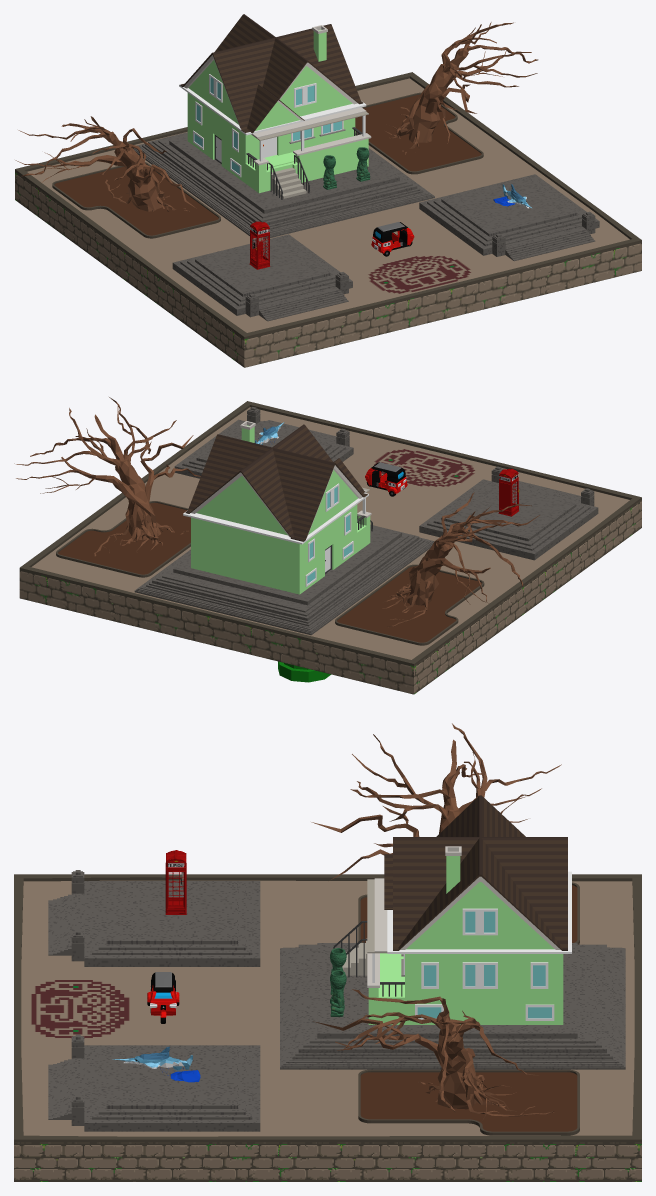
3 views of the same model, one above another, from view 1: azimuth 30°, elevation 25°; view 2: azimuth 150°, elevation 25°; view 3: azimuth 270°, elevation 25° (orthographic). The views are drawn at different scales.
Visible parts, largest first — view 1: Cube.011, Cube.274, VEHICLES_TUC_TUC, OBJRANDOM_PHONEBOOTH; view 2: Cube.011, Cube.274, VEHICLES_TUC_TUC, OBJRANDOM_PHONEBOOTH, UNDERGROUND_PIPES; view 3: Cube.011, Cube.274, OBJRANDOM_PHONEBOOTH, VEHICLES_TUC_TUC, ANIMAL_PEZ_ESPADA.
Part boxes in pixels (box(x1,y1,x2,y2)): Cube.011: box(15, 22, 641, 367); Cube.274: box(179, 14, 371, 199); VEHICLES_TUC_TUC: box(371, 222, 414, 256); OBJRANDOM_PHONEBOOTH: box(249, 221, 270, 269); Cube.011: box(14, 397, 641, 694); Cube.274: box(183, 421, 372, 594); VEHICLES_TUC_TUC: box(365, 462, 407, 496); OBJRANDOM_PHONEBOOTH: box(498, 468, 519, 516); UNDERGROUND_PIPES: box(278, 661, 331, 682); Cube.011: box(14, 723, 641, 1181); Cube.274: box(333, 795, 571, 1024); OBJRANDOM_PHONEBOOTH: box(165, 850, 186, 914); VEHICLES_TUC_TUC: box(147, 972, 179, 1023); ANIMAL_PEZ_ESPADA: box(112, 1046, 200, 1082).
Size of the model in its own units: 5099 by 2243 by 4000.
Materials: 44 (5 with a texture image).
